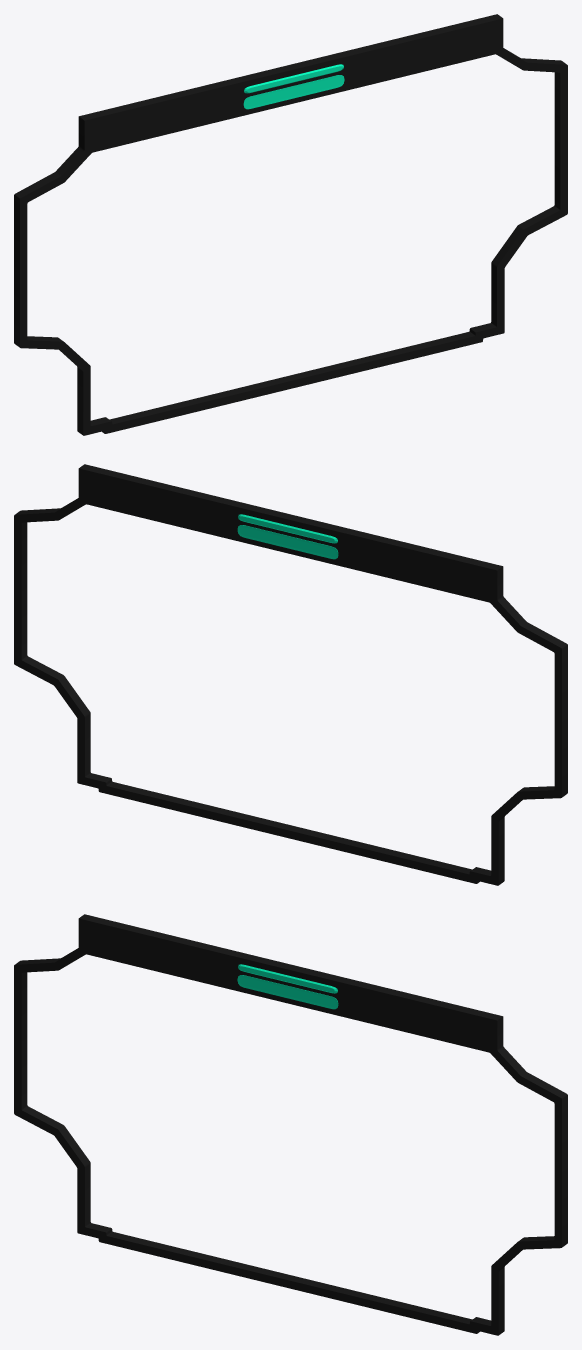
File: CorridorFrame.fbx
3 views of the same model, one above another, from view 1: azimuth 30°, elevation 25°; view 2: azimuth 150°, elevation 25°; view 3: azimuth 330°, elevation 25° (orthographic).
Parts seen in each view (by area): view 1: corridor_frame, corridor_frame_plate, corridor_frame_leds; view 2: corridor_frame, corridor_frame_plate, corridor_frame_leds; view 3: corridor_frame, corridor_frame_plate, corridor_frame_leds.
Boxes of the visible parts, <box> form: corridor_frame: <box>14,14,567,435</box>; corridor_frame_plate: <box>243,75,344,109</box>; corridor_frame_leds: <box>244,64,343,93</box>; corridor_frame: <box>14,464,567,885</box>; corridor_frame_plate: <box>237,525,338,559</box>; corridor_frame_leds: <box>238,514,337,543</box>; corridor_frame: <box>14,914,567,1335</box>; corridor_frame_plate: <box>237,975,338,1009</box>; corridor_frame_leds: <box>238,964,337,993</box>.
Size of the model in its own units: 213 by 5.12 by 118.
